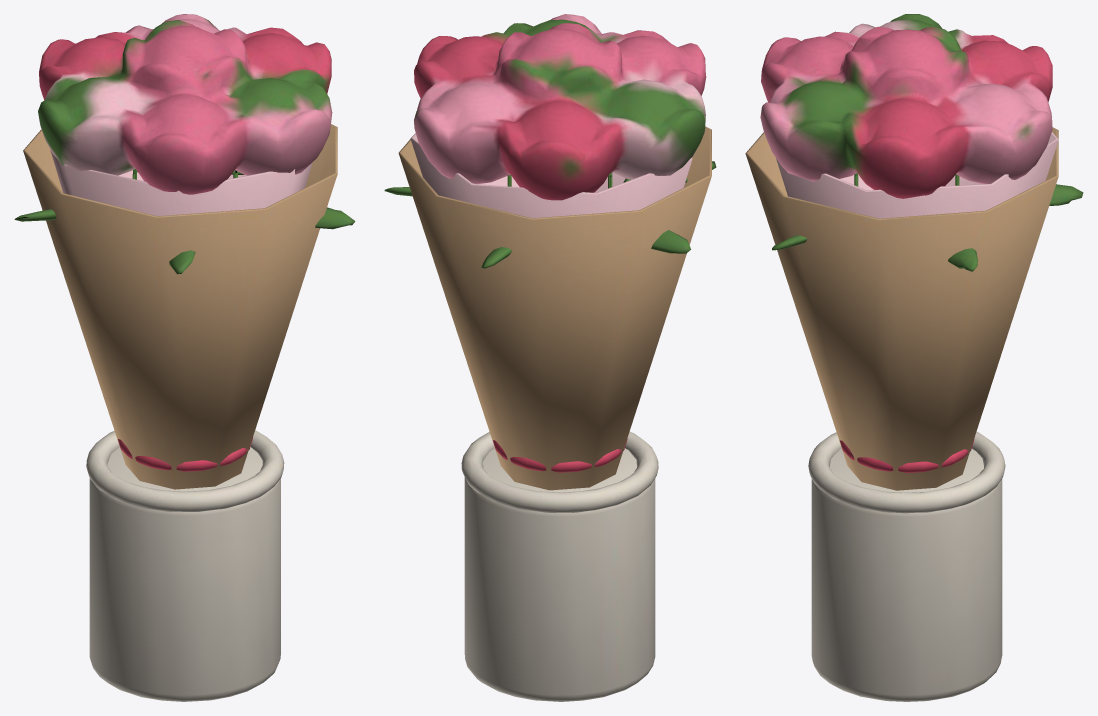
The model's file is keepsake-ecuador-roses.glb.
3 renders of one model, left to right at view 1: azimuth 30°, elevation 25°; view 2: azimuth 150°, elevation 25°; view 3: azimuth 270°, elevation 25°, orthographic.
Visible parts, largest first — view 1: keepsake-ecuador-roses; view 2: keepsake-ecuador-roses; view 3: keepsake-ecuador-roses.
Boxes of the visible parts, x1,y1,x2,y2 form: keepsake-ecuador-roses: (14,14,355,701); keepsake-ecuador-roses: (384,14,716,701); keepsake-ecuador-roses: (745,14,1083,701).
Size of the model in its own units: 0.2188 by 0.45 by 0.2185.
1 material, 1 textured.
